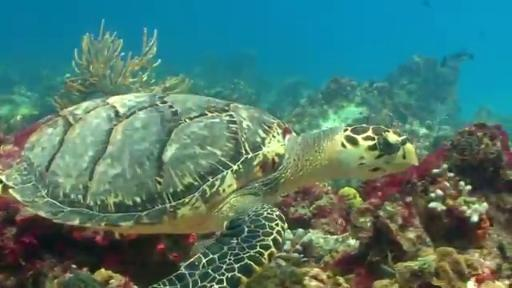Fish: (0, 93, 417, 287)
